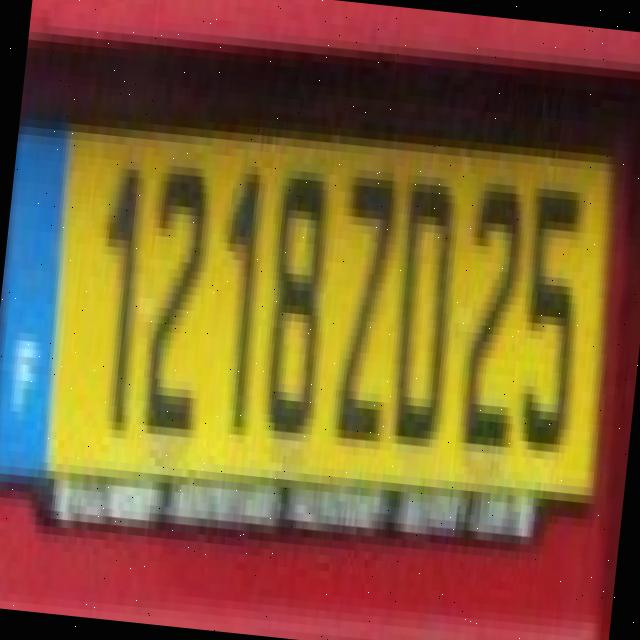EU: (0, 133, 617, 499)
France: (0, 133, 69, 473)
